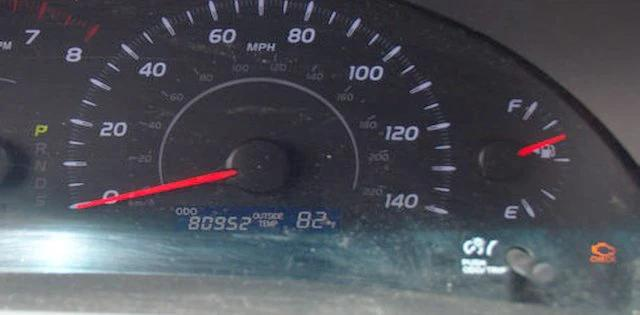odometer: (173, 203, 340, 239)
